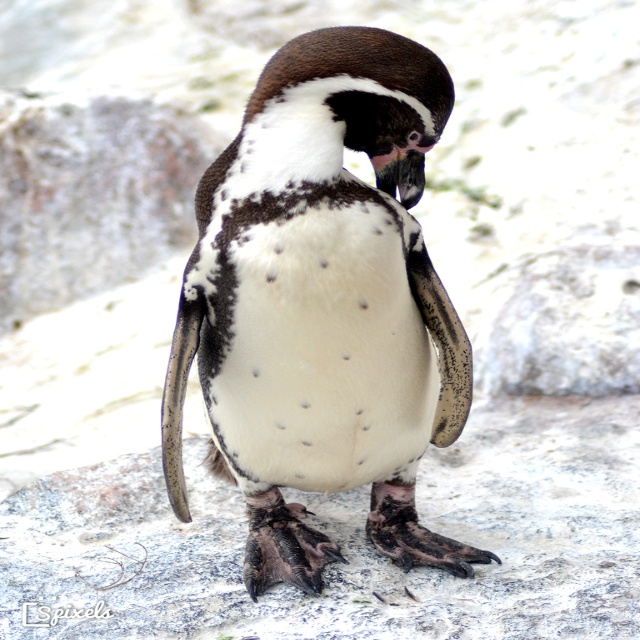Penguin: (159, 25, 502, 605)
